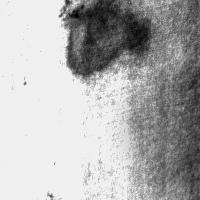patches: (127, 68, 200, 192), (66, 1, 150, 75)
